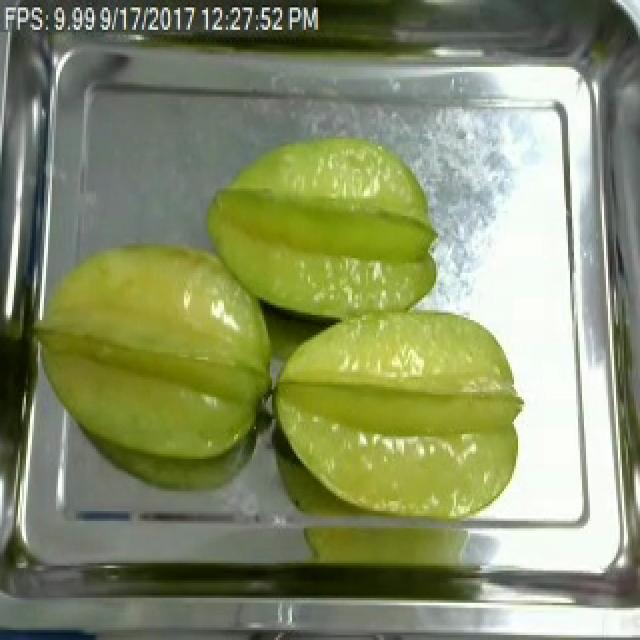fruit: (260, 300, 532, 533), (22, 233, 284, 471), (192, 126, 448, 330)
